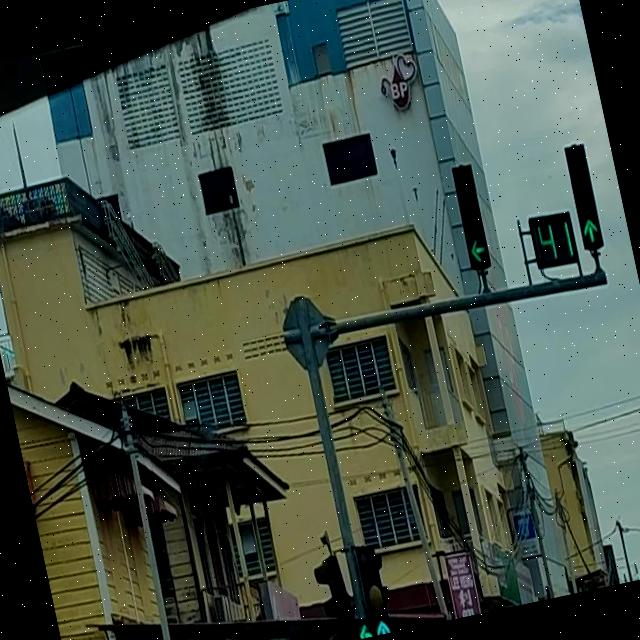green_light: (448, 162, 494, 271), (562, 140, 606, 251)
